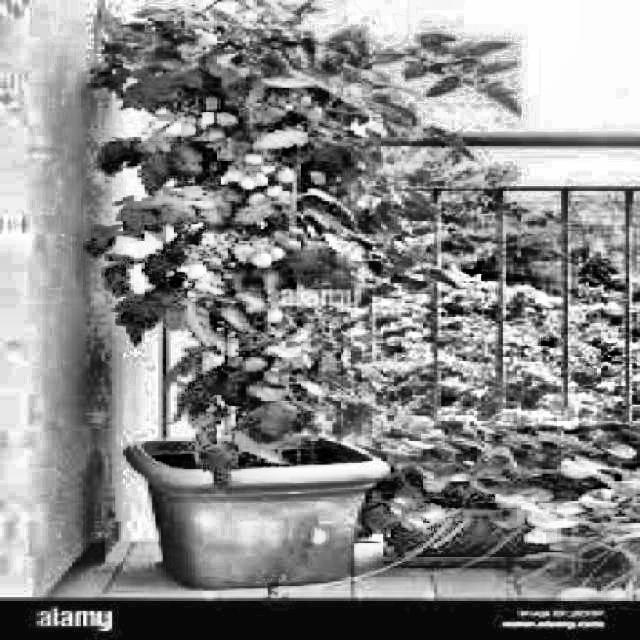plants: (72, 0, 405, 586), (347, 417, 636, 571)
